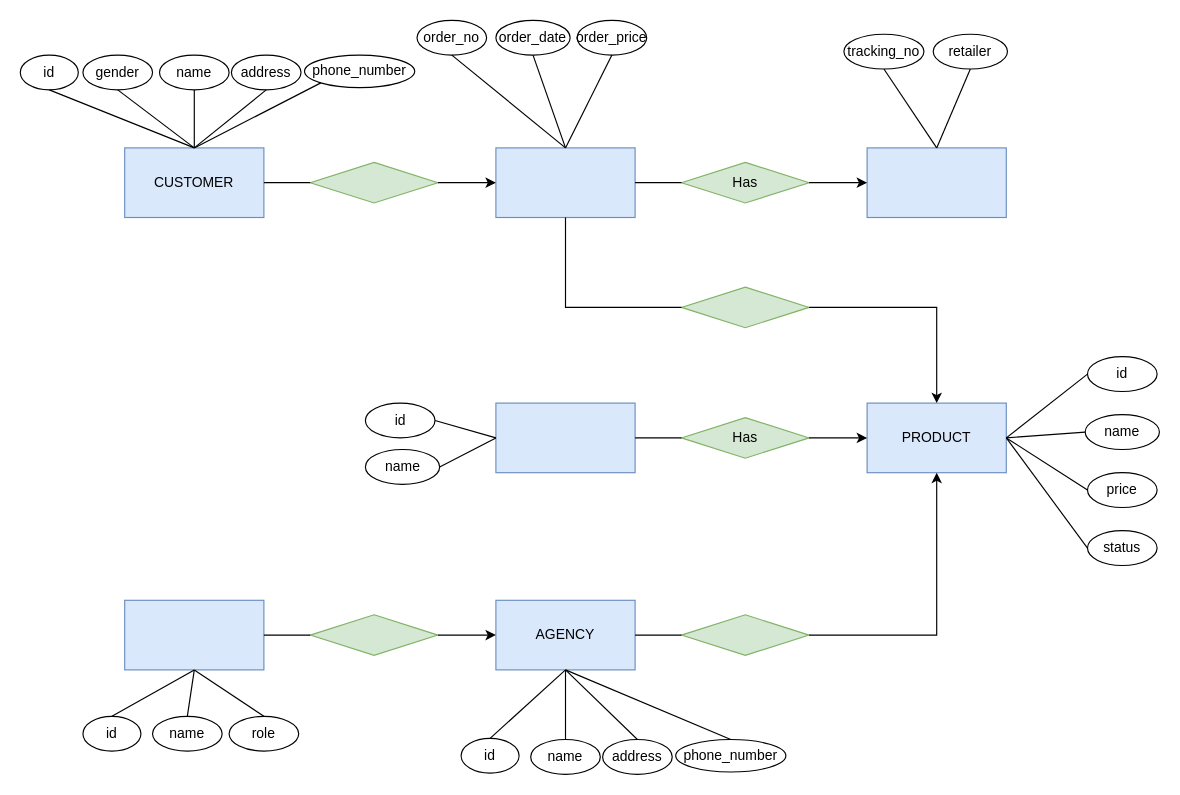
The diagram is 1180 pixels wide and 795 high, and some of its shapes have lost their labels. Here are the shapes that lost their labels. From the top down, the centre of each, then its label:
At (373,182): "Make".
At (565,182): "ORDER".
At (936,182): "TRACKING INFO".
At (744,307): "Contains".
At (565,437): "PRODUCT CATEGORY".
At (194,634): "ADMIN".
At (373,634): "Manage".
At (744,634): "Supplies".
